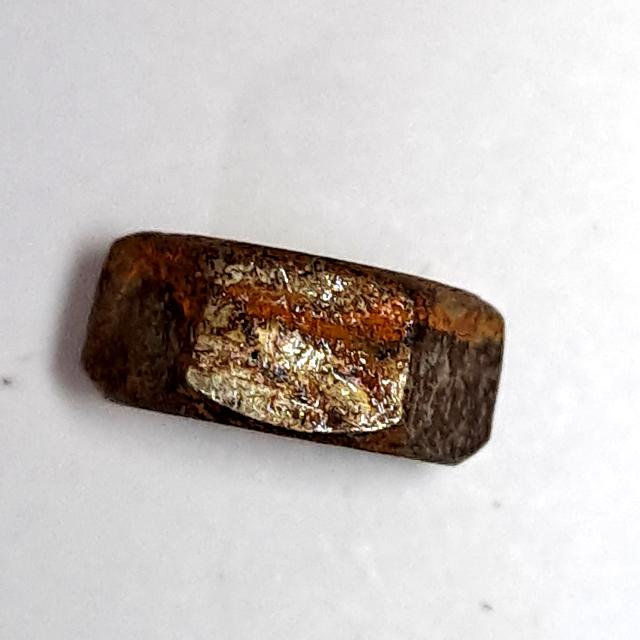Side_Rust: (74, 220, 513, 475)
